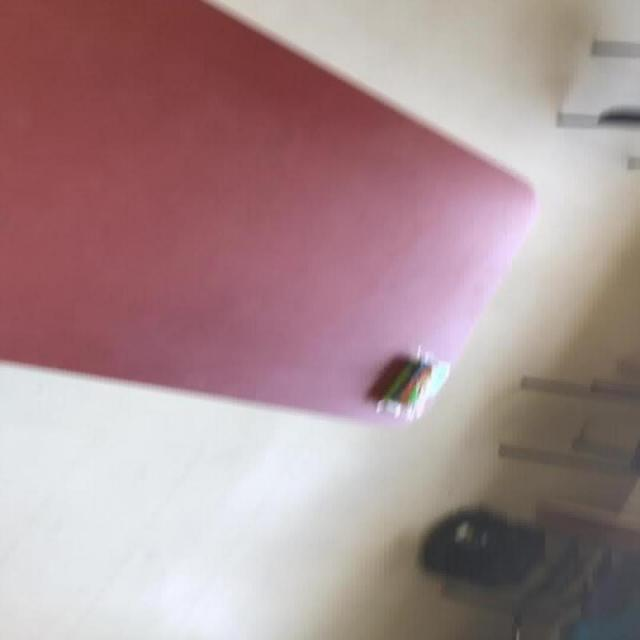Sponge: (373, 344, 450, 422)
